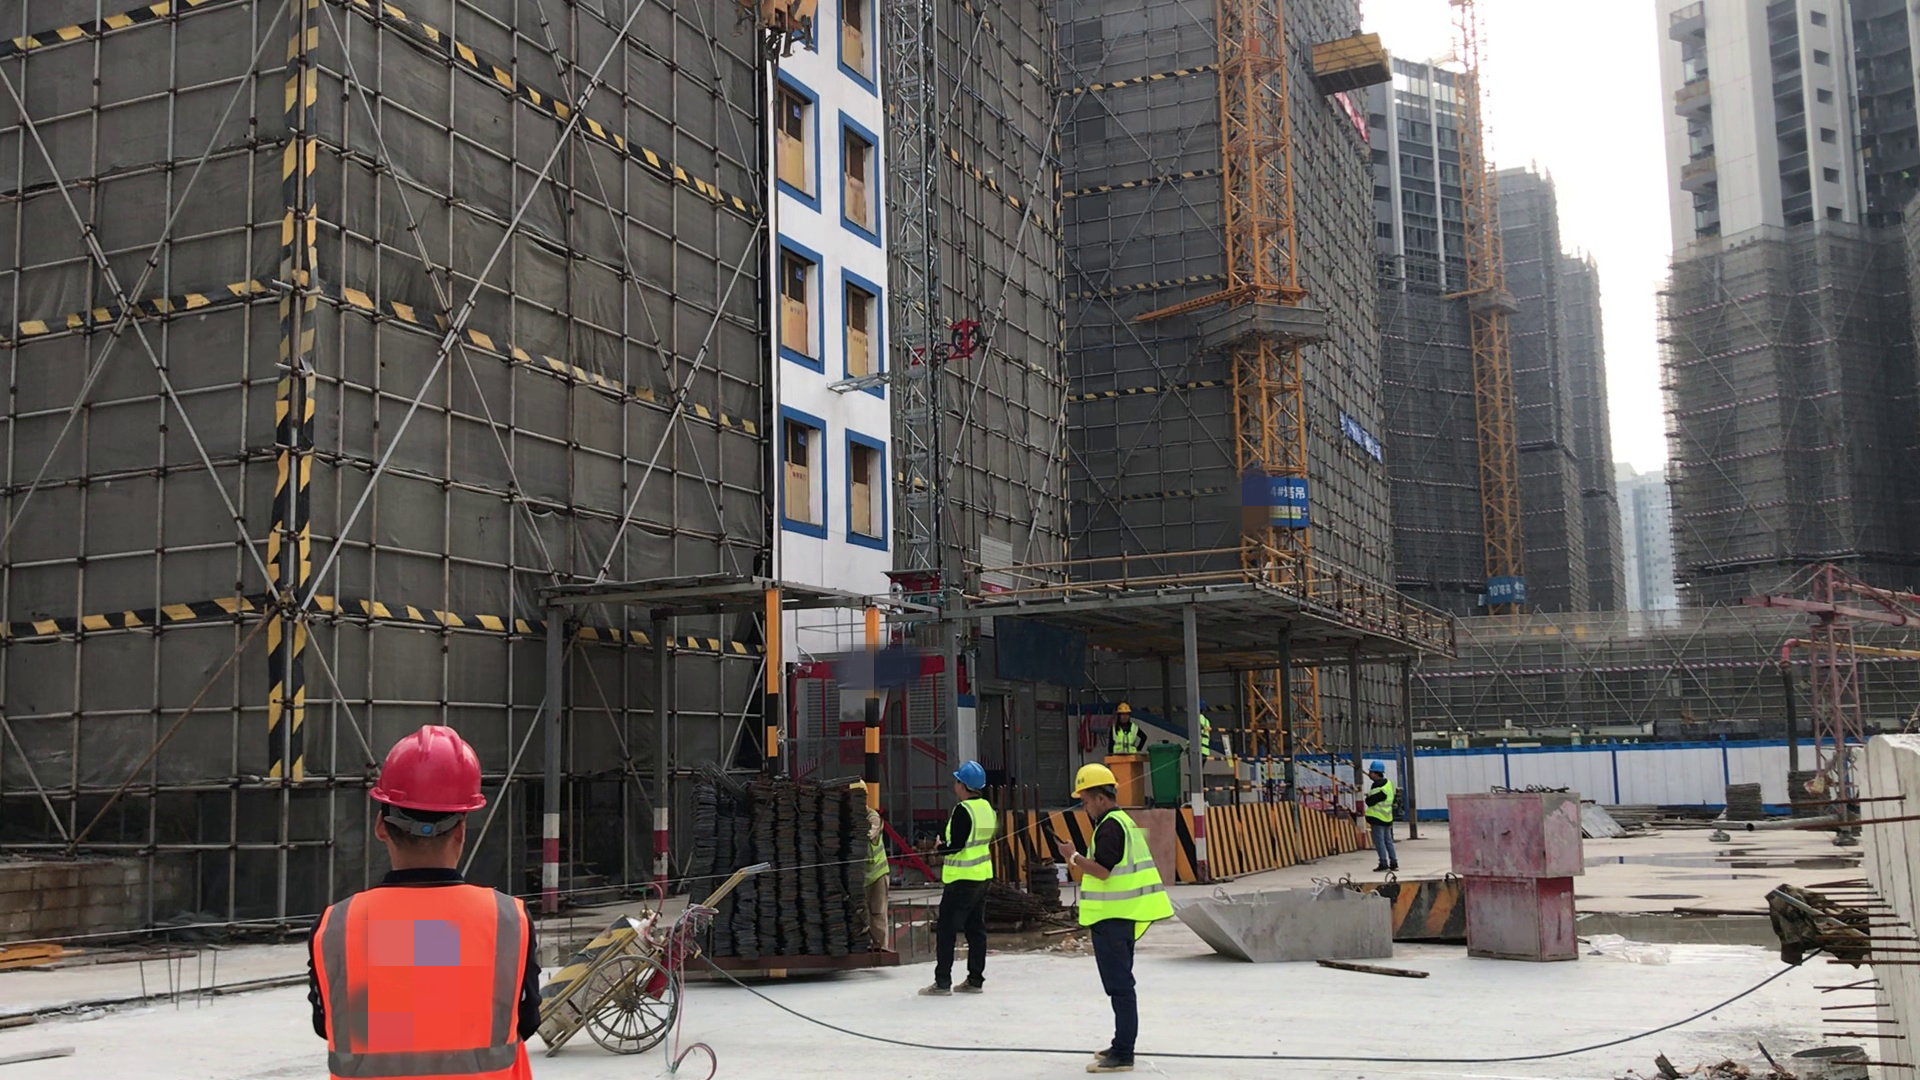helmet: (367, 718, 490, 815), (1069, 762, 1120, 802), (953, 757, 986, 792), (848, 777, 871, 798), (1118, 699, 1136, 721), (1367, 761, 1388, 778)
person: (306, 722, 544, 1080), (1061, 757, 1174, 1078), (931, 758, 999, 1000), (844, 777, 892, 965), (1361, 755, 1404, 876), (1108, 701, 1149, 764), (1187, 698, 1213, 777)
vest: (309, 883, 536, 1054), (1073, 809, 1176, 934), (941, 804, 991, 883), (1363, 783, 1389, 824)
